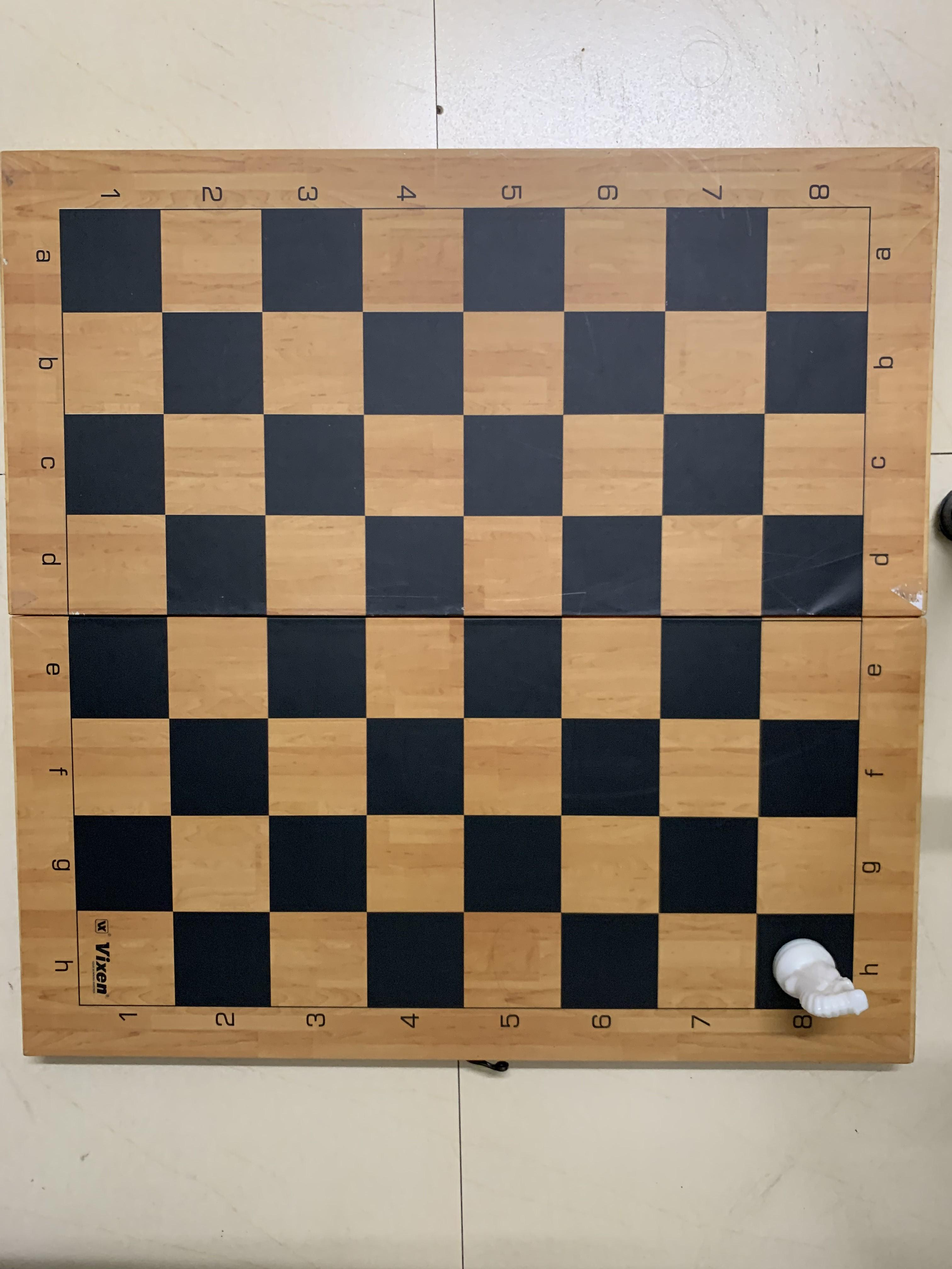white_knight: (759, 919, 871, 1023)
